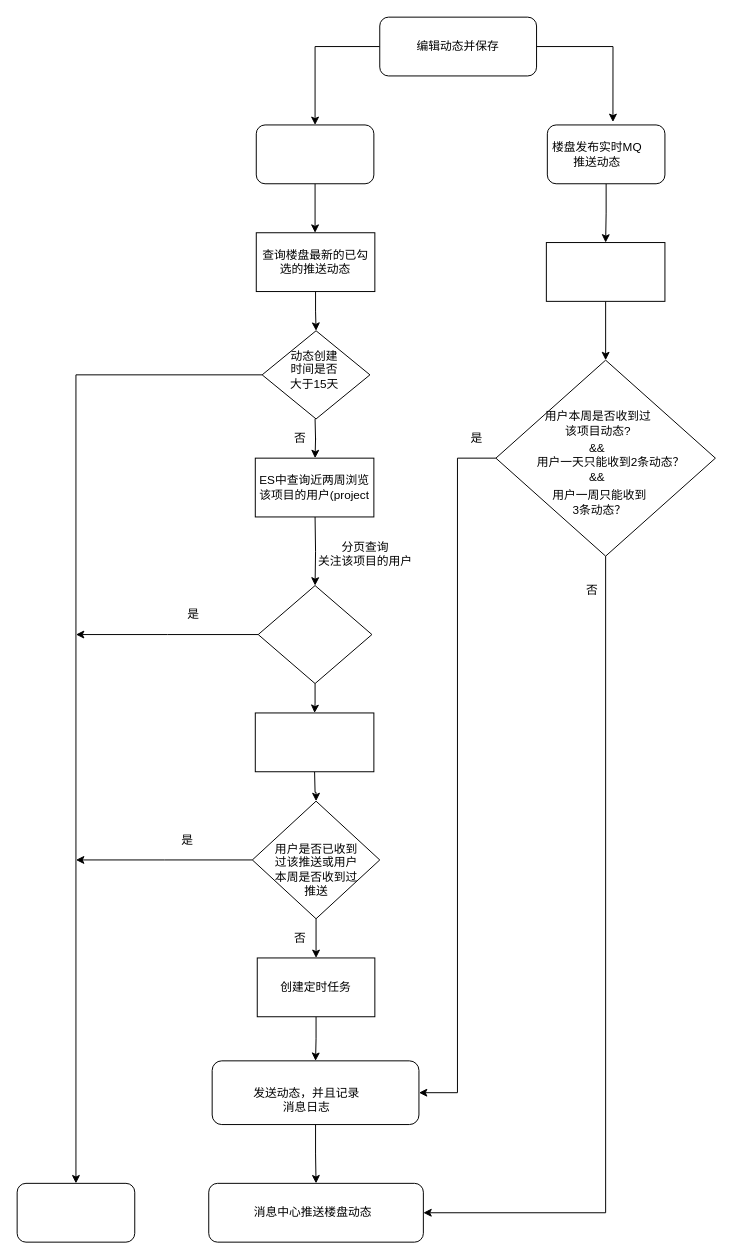
This 733x1259 diagram has some shape labels left out. Here are the shapes that lost their labels. From the top down, the centre of each, then its label:
At point 314,154: "定时任务推送动态".
At point 605,271: "获取关注该项目的所有用户".
At point 314,634: "活跃用户列表是否为空".
At point 314,742: "获取活跃用户".
At point 75,1212: "不发".
